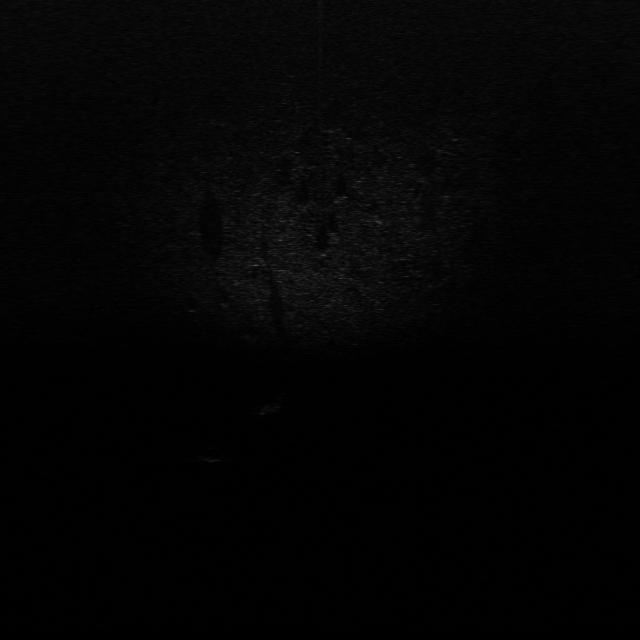ball: (198, 442, 228, 467)
human body: (260, 388, 288, 425)
